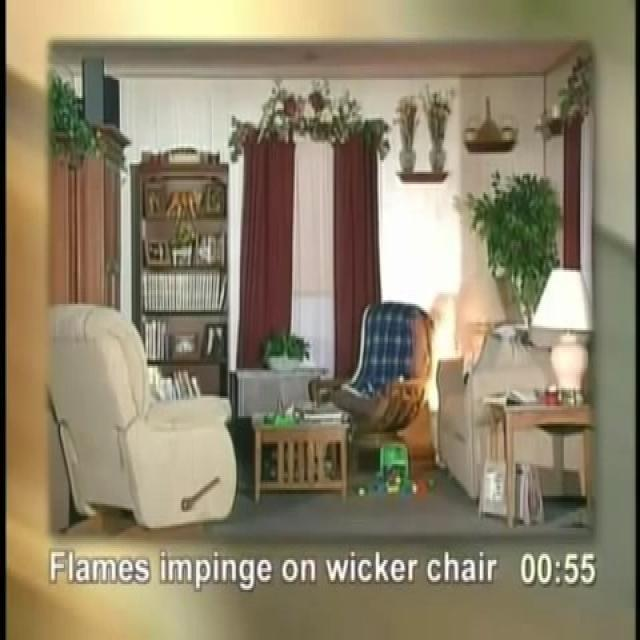Fire: (427, 282, 483, 376)
